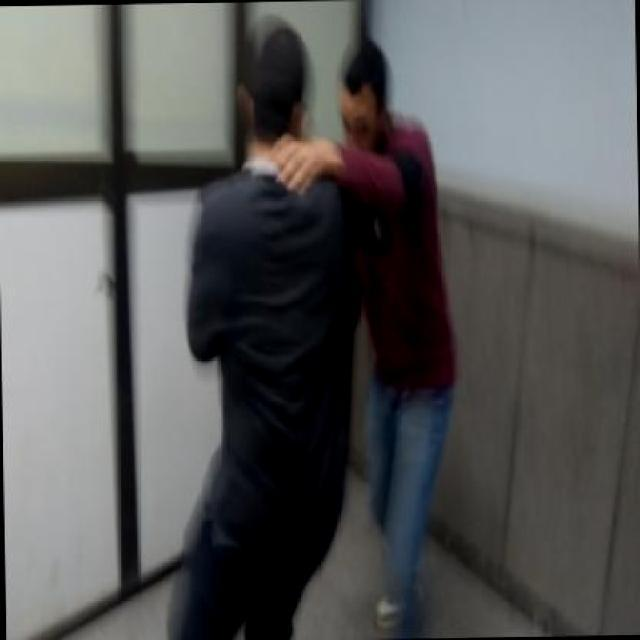fight: (182, 18, 456, 514)
